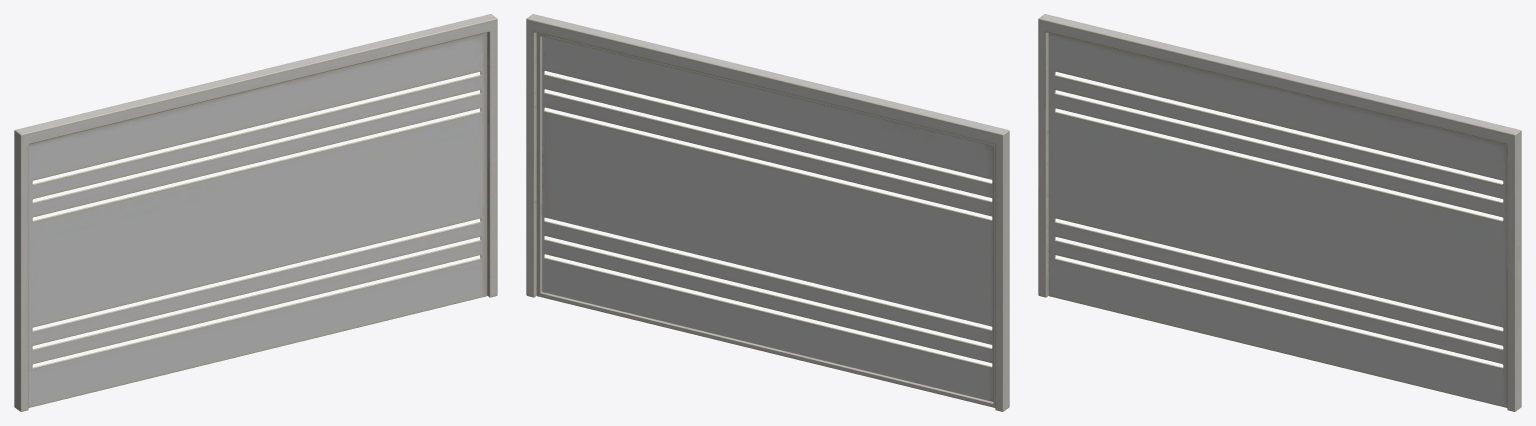
The model's file is g_sect.glb.
The picture shows the model from 3 angles, left to right: view 1: azimuth 30°, elevation 25°; view 2: azimuth 150°, elevation 25°; view 3: azimuth 330°, elevation 25°; orthographic projection.
Parts seen in each view (by area): view 1: folha_por_p_0, folha_mod_p_0; view 2: folha_por_p_0, folha_mod_p_0; view 3: folha_por_p_0, folha_mod_p_0.
Part boxes in pixels (x1,y1,x2,y2): folha_por_p_0: (28,32,487,407); folha_mod_p_0: (14,14,497,411); folha_por_p_0: (536,33,995,407); folha_mod_p_0: (526,14,1009,411); folha_por_p_0: (1048,33,1507,407); folha_mod_p_0: (1038,14,1521,411).
Bounding box in the file's own units: 4.14 × 2.3 × 0.1.
2 materials, 2 textured.
